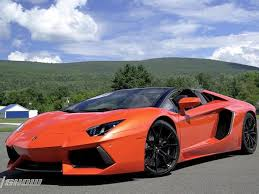Lamborghini: (11, 83, 256, 173)
